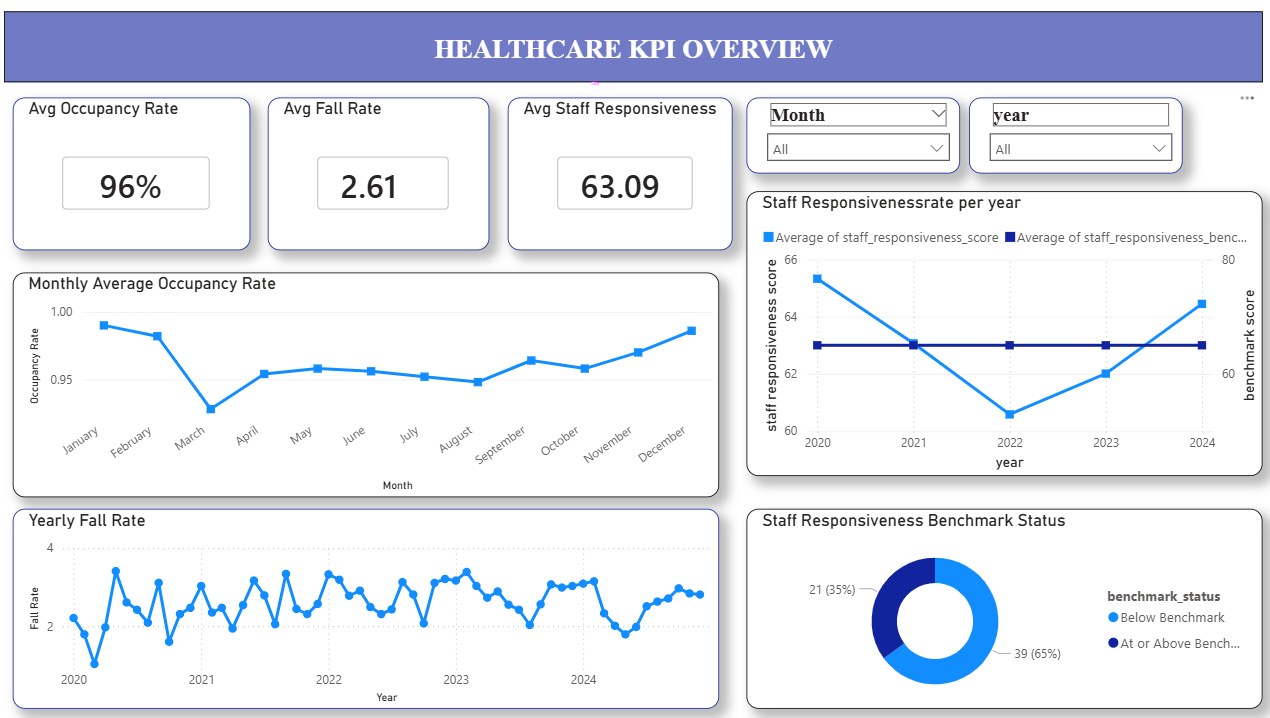

The dashboard page shown, as its layout file describes it:
{"tool":"powerbi","page":{"name":"Healthcare  KPI Analysis","canvas":[1280,720],"ordinal":0},"visuals":[{"type":"cardVisual","title":"Avg Fall Rate","fields":{"Data":["Sum(public healthcare_kpi_summary.avg_fall_rate)"]},"box":[273.8,97.5,221.2,152.5],"z":0},{"type":"cardVisual","title":"Avg Occupancy Rate","fields":{"Data":["Sum(public healthcare_kpi_summary.avg_occupancy_rate)"]},"box":[18.8,97.5,237.5,152.5],"z":1000},{"type":"textbox","box":[10,11.2,1258.8,71.2],"z":2000},{"type":"cardVisual","title":"Avg Staff Responsiveness","fields":{"Data":["Sum(public healthcare_kpi_summary.avg_staff_responsiveness)"]},"box":[513.8,97.5,225,152.5],"z":3000},{"type":"lineChart","title":"Monthly Average Occupancy Rate","fields":{"Category":["public monthly_healthcare_kpi_trend.month.Variation.Date Hierarchy.Year","public monthly_healthcare_kpi_trend.month.Variation.Date Hierarchy.Month"],"Y":["Avg(public monthly_healthcare_kpi_trend.occupancy_rate)"]},"box":[18.8,272.5,706.2,225],"z":4000},{"type":"lineChart","title":"Yearly Fall Rate ","fields":{"Category":["public monthly_healthcare_kpi_trend.month.Variation.Date Hierarchy.Year","public monthly_healthcare_kpi_trend.month.Variation.Date Hierarchy.Month"],"Y":["Sum(public monthly_healthcare_kpi_trend.fall_rate)"]},"box":[18.8,508.8,706.2,200],"z":5000},{"type":"slicer","fields":{"Values":["public monthly_healthcare_kpi_trend.monthname"]},"box":[752.5,97.5,213.8,76.2],"z":6000},{"type":"slicer","fields":{"Values":["public monthly_healthcare_kpi_trend.year"]},"box":[975,97.5,213.8,76.2],"z":7000},{"type":"lineChart","title":"Staff Responsivenessrate per year","fields":{"Category":["public monthly_healthcare_kpi_trend.year"],"Y":["Avg(public monthly_healthcare_kpi_trend.staff_responsiveness_score)"],"Y2":["Avg(public monthly_healthcare_kpi_trend.staff_responsiveness_benchmark)"]},"box":[752.5,191.2,516.2,285],"z":8000},{"type":"donutChart","title":"Staff Responsiveness Benchmark Status","fields":{"Y":["Sum(public staff_benchmark_summary.month_count)"],"Category":["public staff_benchmark_summary.benchmark_status"]},"box":[753,509,516,200],"z":9000}]}

Visuals, with their boxes in screenshot pixels (x1, y1, x2, y2), scaled from the page's 1280x720 canvas onto the 1270x718 screenshot:
"Avg Fall Rate" cardVisual: 272/97/491/249
"Avg Occupancy Rate" cardVisual: 19/97/254/249
textbox: 10/11/1259/82
"Avg Staff Responsiveness" cardVisual: 510/97/733/249
"Monthly Average Occupancy Rate" lineChart: 19/272/719/496
"Yearly Fall Rate " lineChart: 19/507/719/707
slicer - public monthly_healthcare_kpi_trend.monthname: 747/97/959/173
slicer - public monthly_healthcare_kpi_trend.year: 967/97/1180/173
"Staff Responsivenessrate per year" lineChart: 747/191/1259/475
"Staff Responsiveness Benchmark Status" donutChart: 747/508/1259/707
